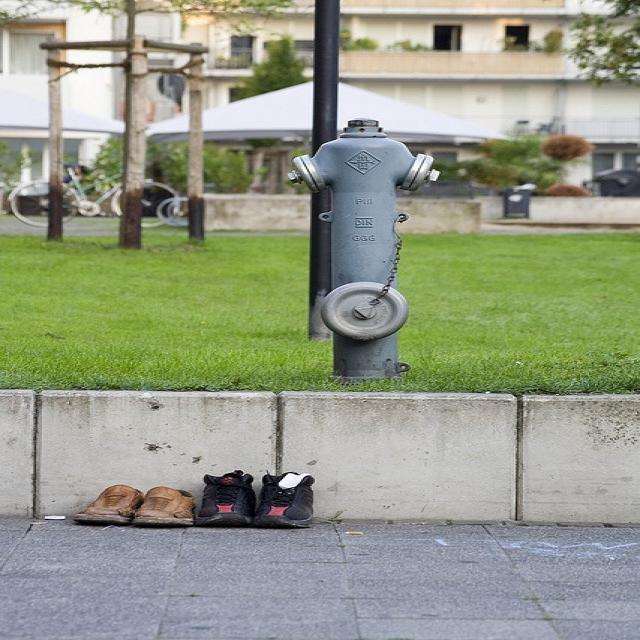bicycle: (7, 162, 171, 227)
fire_hydrant: (282, 116, 438, 385)
pole: (295, 0, 346, 338)
